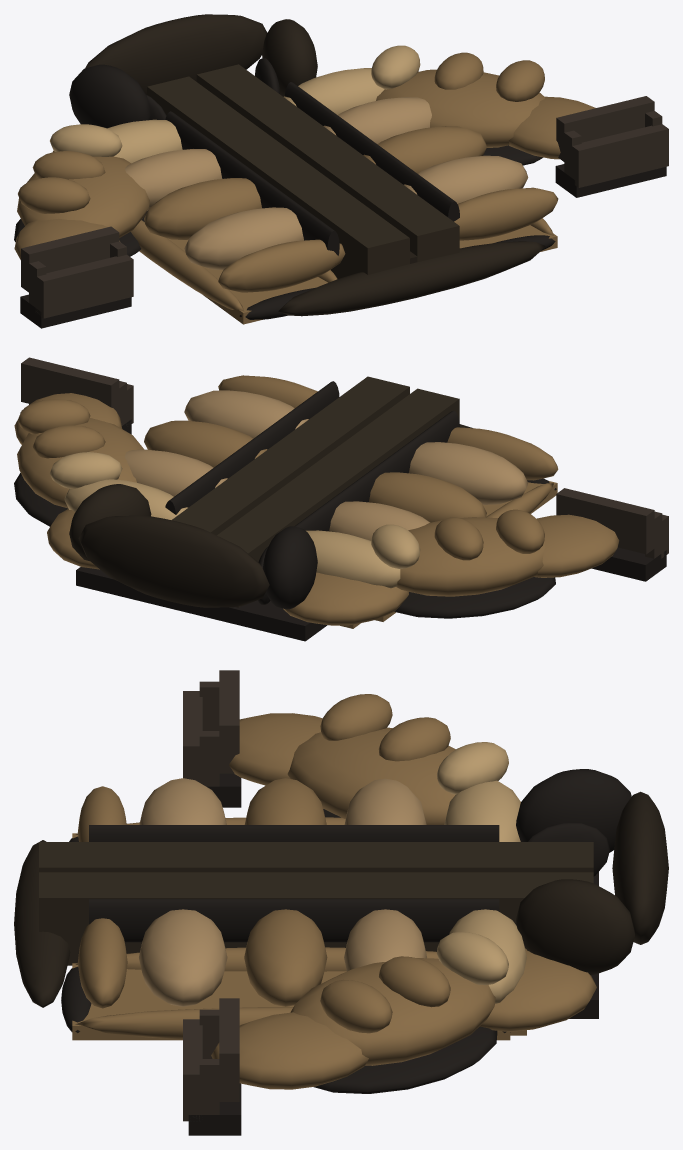
The model's file is CMU3DCivilianJacketKhakiPufferJacketWorldCloud.glb.
The picture shows the model from 3 angles, top to bottom: view 1: azimuth 30°, elevation 25°; view 2: azimuth 150°, elevation 25°; view 3: azimuth 270°, elevation 25°; orthographic projection. The views are drawn at different scales.
Parts seen in each view (by area): view 1: broad left centre placket, broad right centre placket, rear collar roll, short dark elastic bottom hem, right soft upper sleeve, left inflated stitched channel 4, left inflated stitched channel 3, left inflated stitched channel 5, left cuff outer bottom fold, right cuff outer bottom fold, left soft upper sleeve, left standing collar (+29 smaller); view 2: rear collar roll, broad left centre placket, broad right centre placket, left soft upper sleeve, left inflated stitched channel 4, left connected shoulder yoke, recessed source-visible neck lining, left outward forearm fold, left inflated stitched channel 3, right front facing seam, left standing collar, left sleeve underside (+25 smaller); view 3: broad left centre placket, broad right centre placket, right front facing seam, right soft upper sleeve, right standing collar, left soft upper sleeve, right outward forearm fold, left front facing seam, right inflated stitched channel 4, rear collar roll, right inflated stitched channel 3, left standing collar (+33 smaller).
Boxes of the visible parts, box(x1,y1,x2,y2) form: broad left centre placket: box(147, 76, 409, 278); broad right centre placket: box(196, 64, 459, 261); rear collar roll: box(85, 14, 267, 94); short dark elastic bottom hem: box(278, 241, 545, 316); right soft upper sleeve: box(376, 69, 544, 147); left inflated stitched channel 4: box(184, 207, 303, 269); left inflated stitched channel 3: box(144, 178, 261, 239); left inflated stitched channel 5: box(218, 239, 345, 292); left cuff outer bottom fold: box(35, 255, 133, 318); right cuff outer bottom fold: box(572, 124, 668, 187); left soft upper sleeve: box(17, 156, 149, 237); left standing collar: box(69, 64, 151, 128); rear collar roll: box(78, 515, 269, 607); broad left centre placket: box(217, 388, 459, 607); broad right centre placket: box(171, 376, 409, 535); left soft upper sleeve: box(396, 517, 545, 596); left inflated stitched channel 4: box(409, 442, 527, 504); left connected shoulder yoke: box(283, 572, 408, 625); recessed source-visible neck lining: box(76, 567, 327, 641); left outward forearm fold: box(534, 514, 619, 577); left inflated stitched channel 3: box(369, 472, 486, 522); right front facing seam: box(165, 381, 339, 514); left standing collar: box(262, 526, 317, 609); left sleeve underside: box(394, 577, 555, 618); broad left centre placket: box(39, 842, 593, 872); broad right centre placket: box(39, 872, 593, 965); right front facing seam: box(89, 899, 499, 942); right soft upper sleeve: box(290, 958, 495, 1065); right standing collar: box(516, 879, 634, 975); left soft upper sleeve: box(287, 727, 455, 824); right outward forearm fold: box(211, 1012, 368, 1089); left front facing seam: box(89, 825, 499, 841); right inflated stitched channel 4: box(139, 909, 227, 1006); rear collar roll: box(612, 791, 668, 944); right inflated stitched channel 3: box(244, 909, 327, 1006); left standing collar: box(516, 769, 631, 852).
Size of the model in its own units: 0.5112 by 0.084 by 0.3691.
